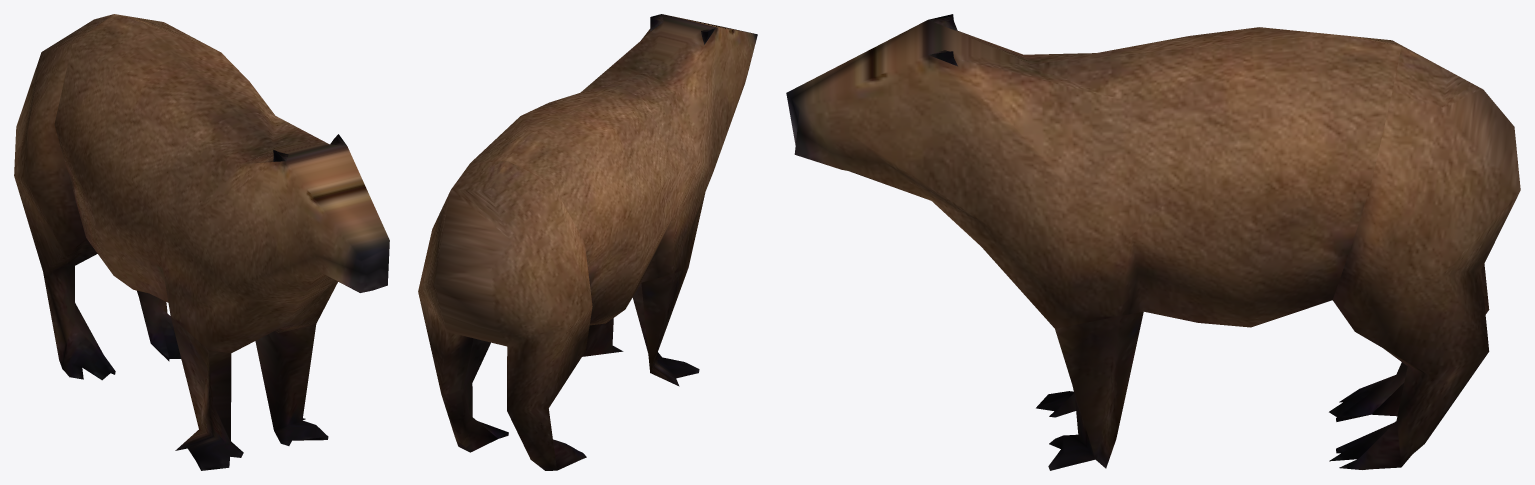
Rendered from Capybara.glb.
3 renders of one model, left to right at view 1: azimuth 30°, elevation 25°; view 2: azimuth 150°, elevation 25°; view 3: azimuth 270°, elevation 25°, orthographic. The views are drawn at different scales.
Parts seen in each view (by area): view 1: Obj3d66-13988926-2-35; view 2: Obj3d66-13988926-2-35; view 3: Obj3d66-13988926-2-35.
Boxes of the visible parts, <box> form: Obj3d66-13988926-2-35: <box>14,14,389,470</box>; Obj3d66-13988926-2-35: <box>418,14,757,470</box>; Obj3d66-13988926-2-35: <box>786,14,1520,470</box>.
Size of the model in its own units: 0.5318 by 0.9769 by 1.59.
1 material, 1 textured.
